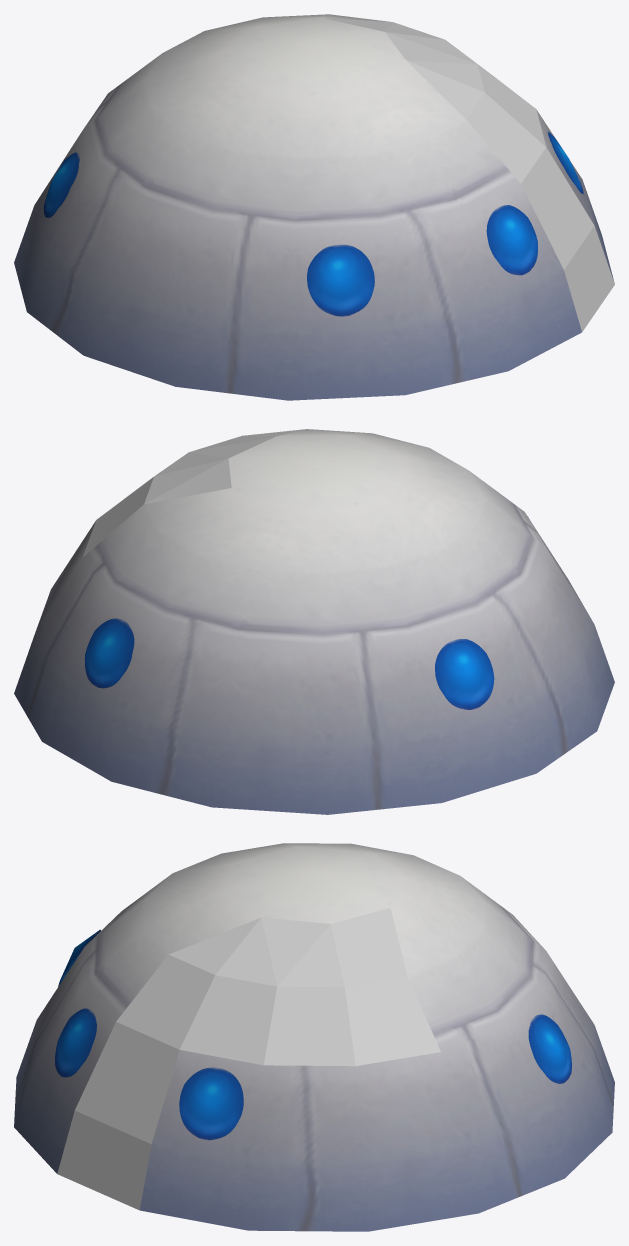
Rendered from nameikexing_jianzhu_01.FBX.
3 views of the same model, one above another, from view 1: azimuth 30°, elevation 25°; view 2: azimuth 150°, elevation 25°; view 3: azimuth 270°, elevation 25° (orthographic).
Visible parts, largest first — view 1: nameikexing_jianzhu_001, nameikexing_jianzhu_lie_01, nameikexing_jianzhu_zhu_01; view 2: nameikexing_jianzhu_001, nameikexing_jianzhu_zhu_01, nameikexing_jianzhu_lie_01; view 3: nameikexing_jianzhu_001, nameikexing_jianzhu_lie_01, nameikexing_jianzhu_zhu_01.
Boxes of the visible parts, x1,y1,x2,y2 form: nameikexing_jianzhu_001: [14, 14, 614, 400]; nameikexing_jianzhu_lie_01: [324, 18, 614, 331]; nameikexing_jianzhu_zhu_01: [43, 131, 583, 316]; nameikexing_jianzhu_001: [14, 429, 614, 814]; nameikexing_jianzhu_zhu_01: [84, 618, 494, 709]; nameikexing_jianzhu_lie_01: [83, 429, 304, 556]; nameikexing_jianzhu_001: [14, 843, 614, 1231]; nameikexing_jianzhu_lie_01: [57, 908, 440, 1210]; nameikexing_jianzhu_zhu_01: [55, 929, 571, 1140].
Bounding box in the file's own units: 579 × 248 × 579.
